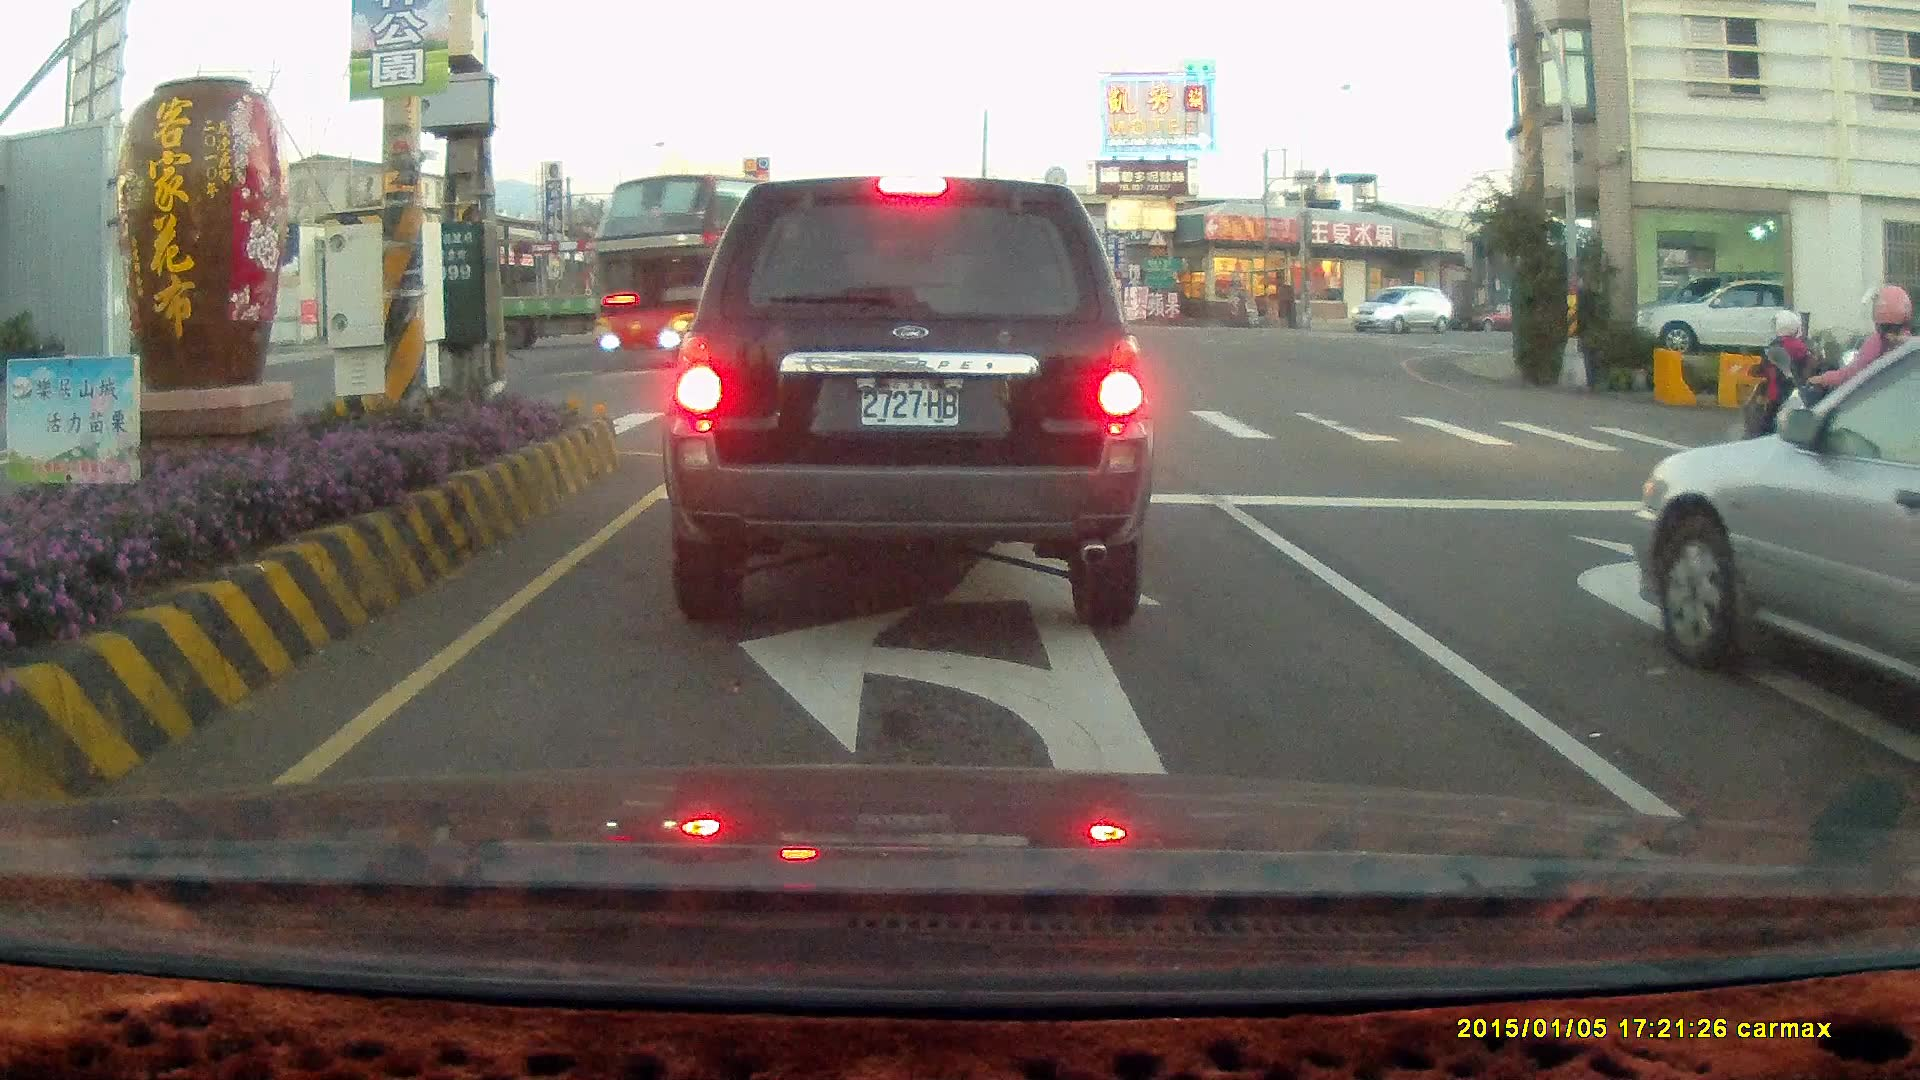rider: (1765, 280, 1920, 561), (1728, 308, 1825, 469)
vehicle: (659, 173, 1155, 630), (1620, 336, 1920, 733), (1636, 340, 1920, 705), (503, 254, 694, 347), (1629, 275, 1836, 357), (1642, 275, 1784, 356), (1896, 493, 1920, 836), (1351, 286, 1456, 339)
